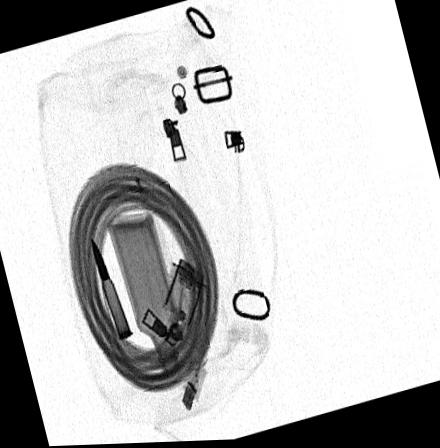Bullet: (90, 235, 132, 340)
